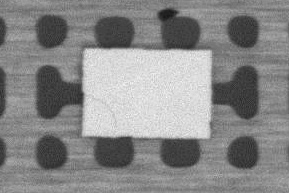DIE_CRACK: (84, 93, 117, 128)
